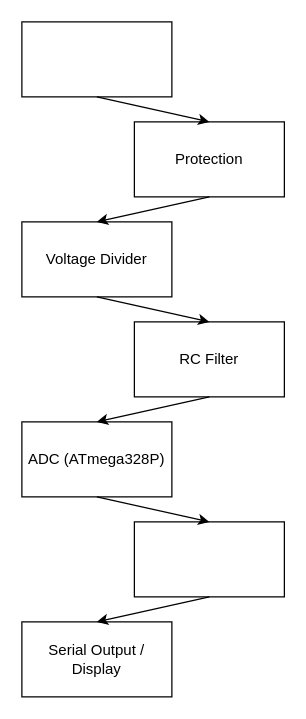
The diagram is 306 pixels wide and 719 high, and some of its shapes have lost their labels. The shapes that lost their labels are listed below. From the top down, each one's centre as x and y in pixels, then its label:
At pixel 96 59: "Voltage Input".
At pixel 208 559: "Firmware Processing".
